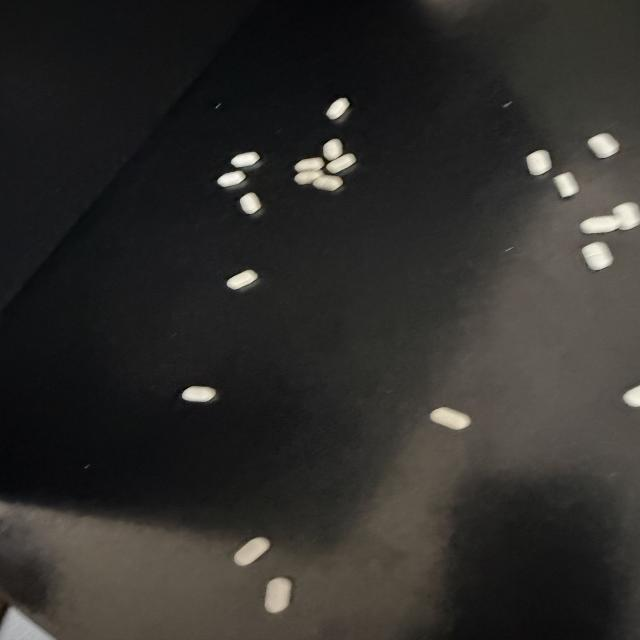pill: (234, 537, 270, 566), (265, 577, 291, 613), (430, 407, 470, 429), (582, 242, 613, 270), (588, 134, 619, 158), (613, 202, 639, 230), (580, 216, 620, 233), (526, 150, 552, 175), (554, 173, 579, 197), (227, 270, 257, 289), (326, 97, 350, 120), (326, 154, 355, 173), (182, 386, 216, 402), (217, 170, 246, 188), (240, 192, 262, 215), (313, 175, 342, 191), (231, 152, 259, 168), (323, 139, 343, 161), (294, 158, 324, 172), (294, 171, 324, 184), (623, 386, 639, 407)
